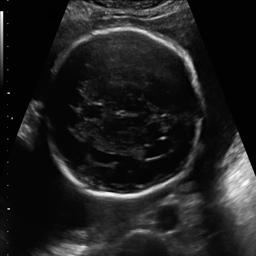normal: (47, 25, 206, 201)
